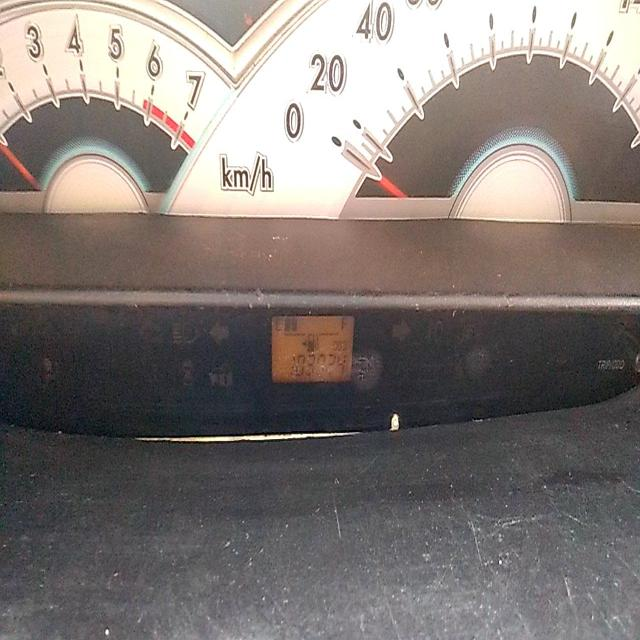odometer: (287, 351, 349, 379)
